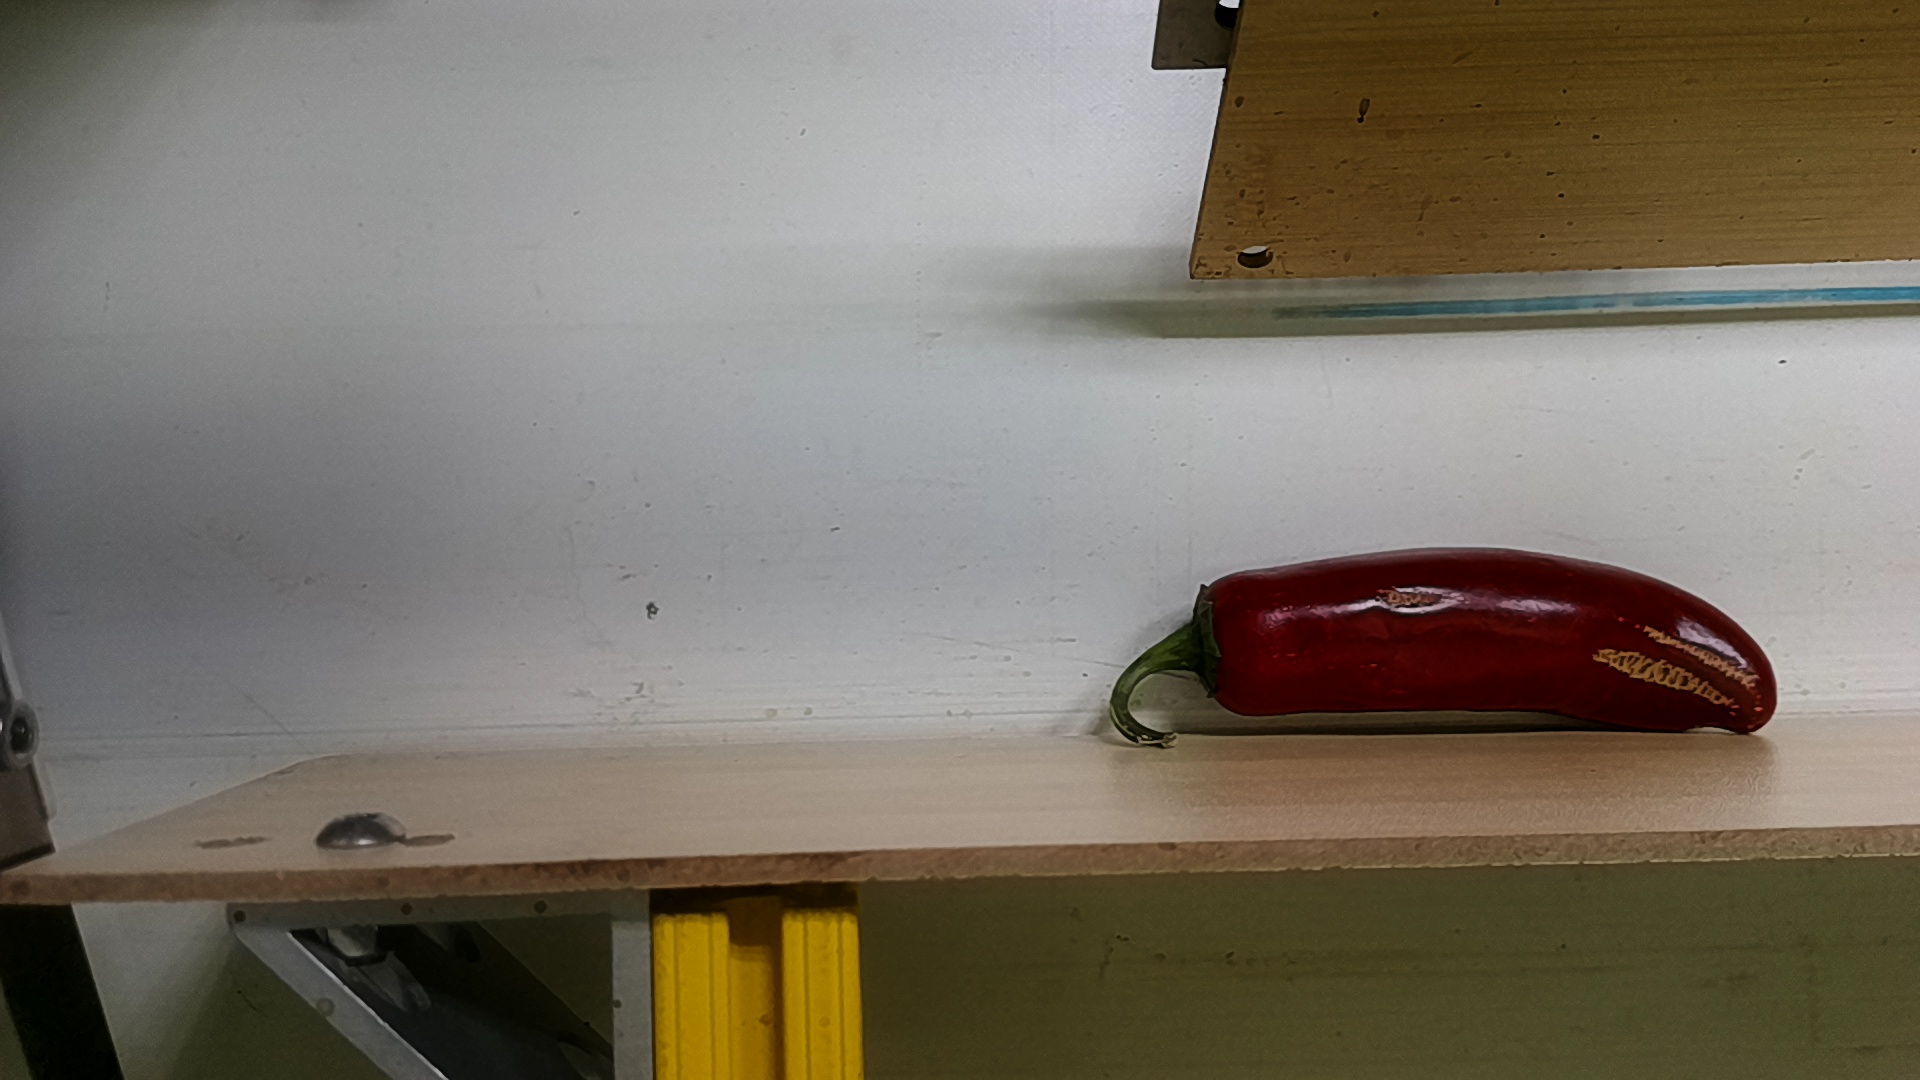Cut Point: (1178, 567, 1262, 723)
